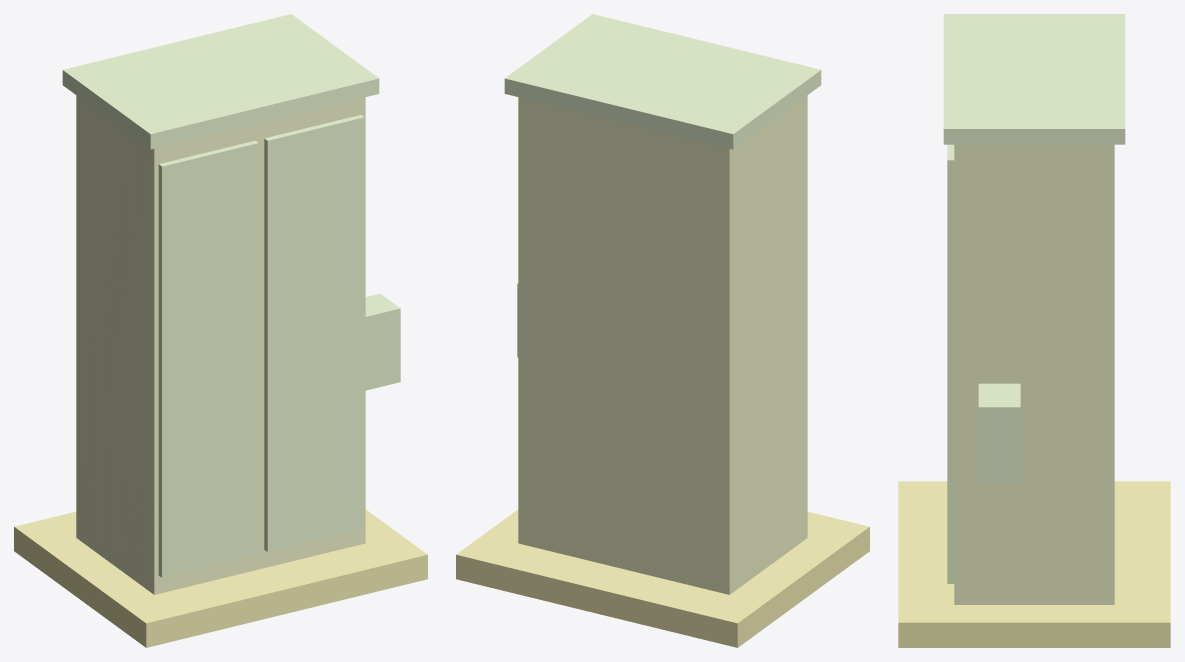
Rendered from furniture_signal_controller_cabinet.glb.
3 views of the same model, side by side, from view 1: azimuth 30°, elevation 25°; view 2: azimuth 150°, elevation 25°; view 3: azimuth 270°, elevation 25° (orthographic). The views are drawn at different scales.
Visible parts, largest first — view 1: cabinet, door_left, door_right, roof_cap, pad, service_box; view 2: cabinet, roof_cap, pad; view 3: cabinet, pad, roof_cap, service_box, door_right.
Boxes of the visible parts, x1,y1,x2,y2 form: cabinet: (76, 95, 365, 594); door_left: (158, 140, 258, 577); door_right: (264, 115, 364, 551); roof_cap: (62, 14, 379, 149); pad: (14, 509, 427, 647); service_box: (365, 293, 400, 390); cabinet: (518, 95, 807, 594); roof_cap: (504, 14, 821, 149); pad: (456, 509, 869, 647); cabinet: (954, 144, 1114, 604); pad: (898, 481, 1170, 647); roof_cap: (943, 14, 1125, 144); service_box: (978, 383, 1020, 483); door_right: (947, 144, 954, 583).
Bounding box in the file's own units: 1 × 1.6 × 0.78.
